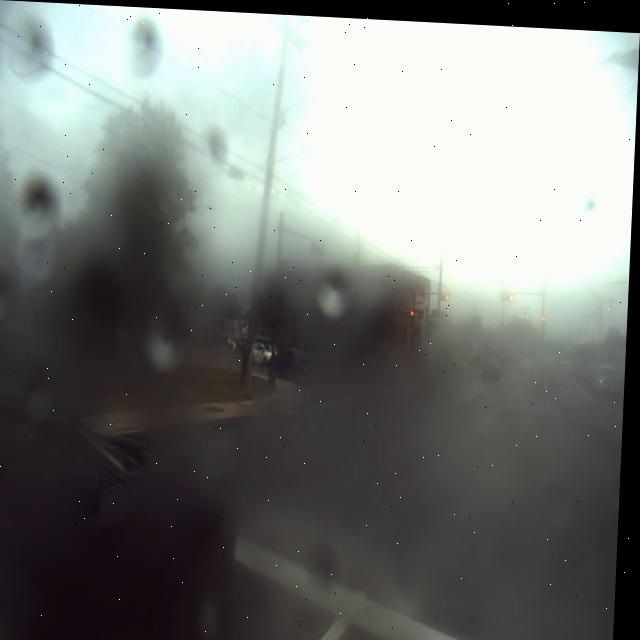car: (484, 352, 507, 377)
